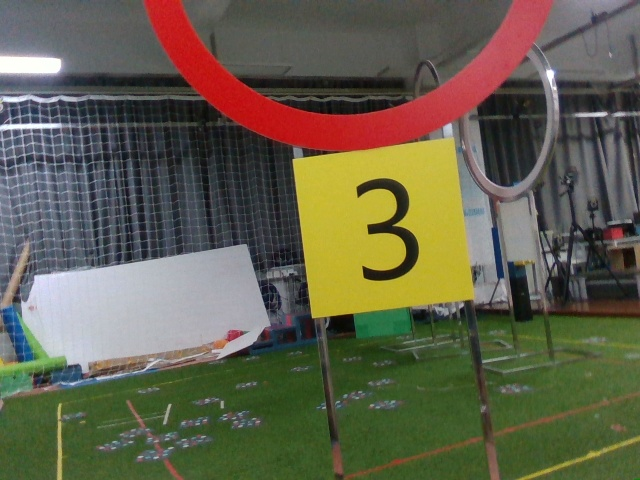target: (304, 152, 458, 308)
